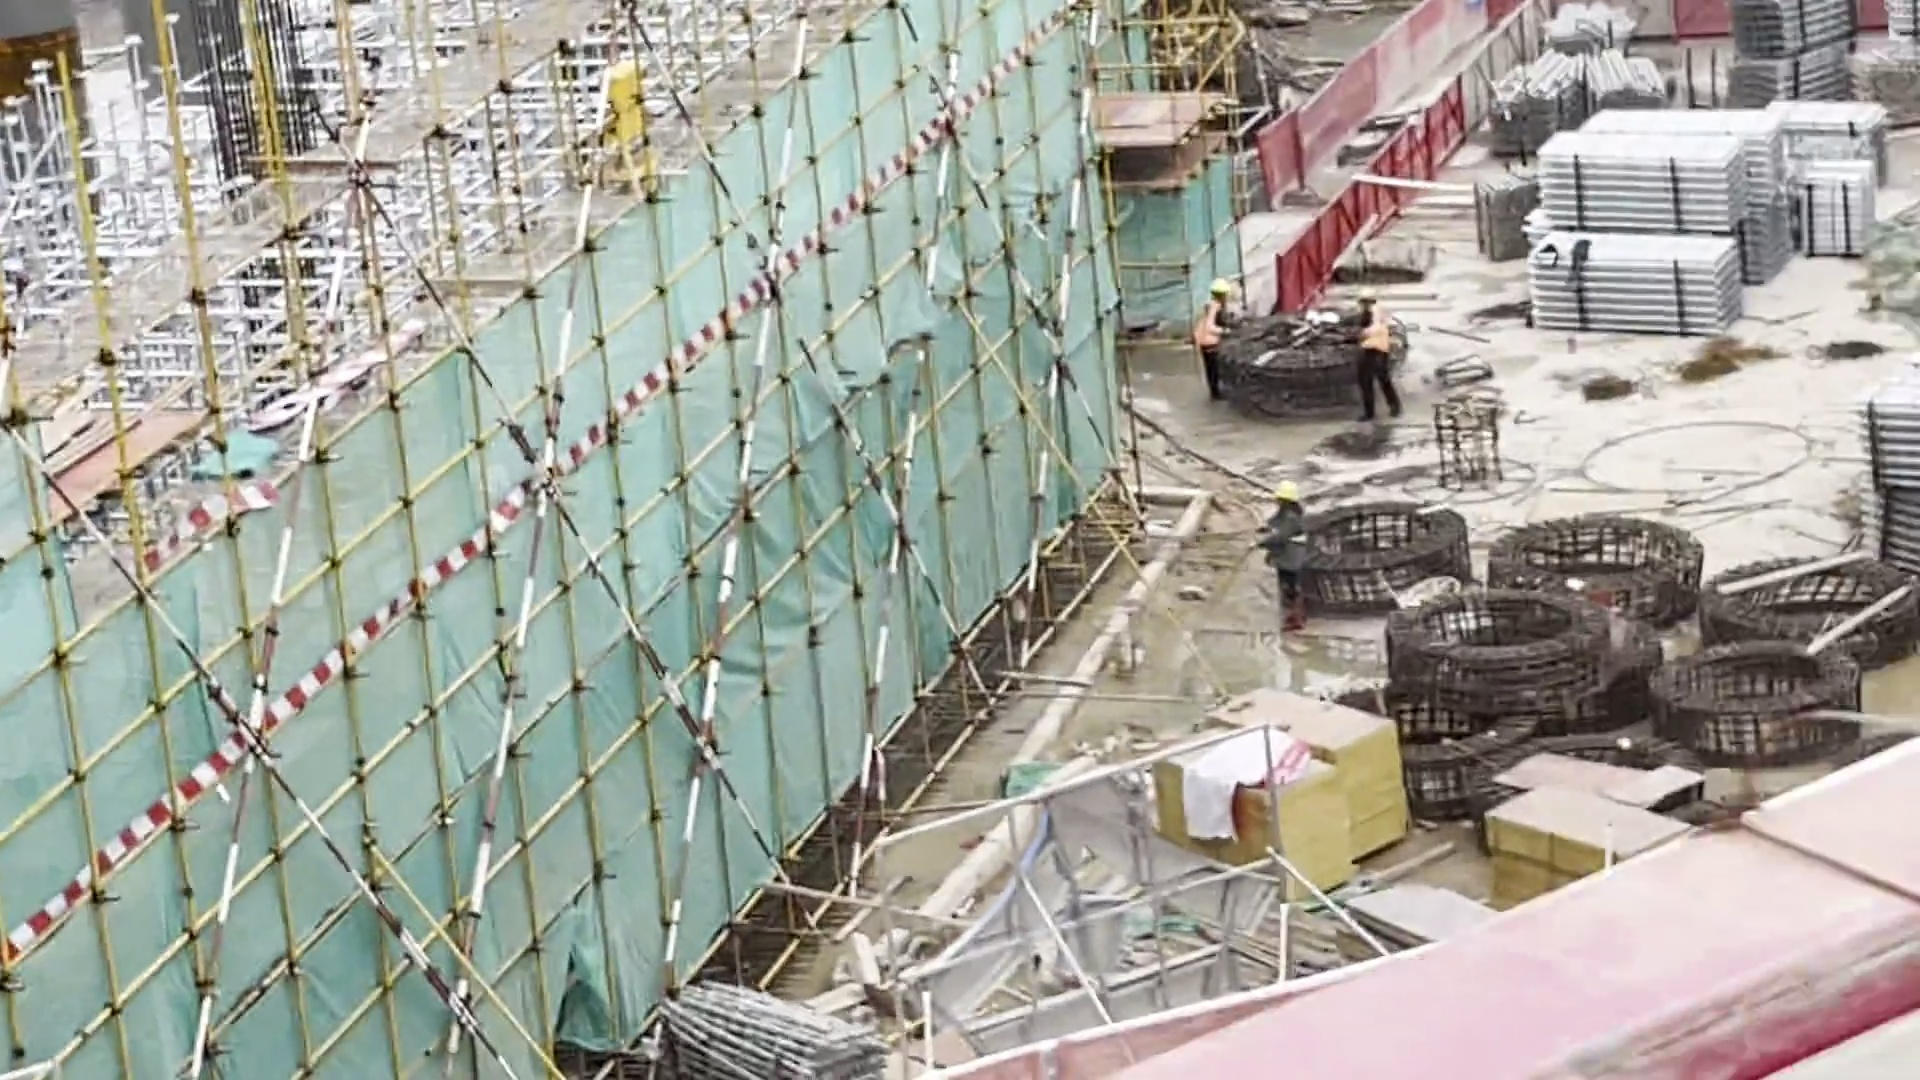board: (1153, 679, 1396, 907), (1482, 722, 1685, 886)
fence: (1239, 24, 1472, 250)
helmet: (1204, 273, 1257, 315), (1275, 474, 1303, 504)
person: (1254, 465, 1322, 635), (1339, 277, 1416, 425), (1193, 275, 1246, 410)
scaffold: (1478, 1, 1898, 514), (686, 945, 854, 1080)
vest: (1353, 301, 1410, 366), (1192, 299, 1228, 359)
